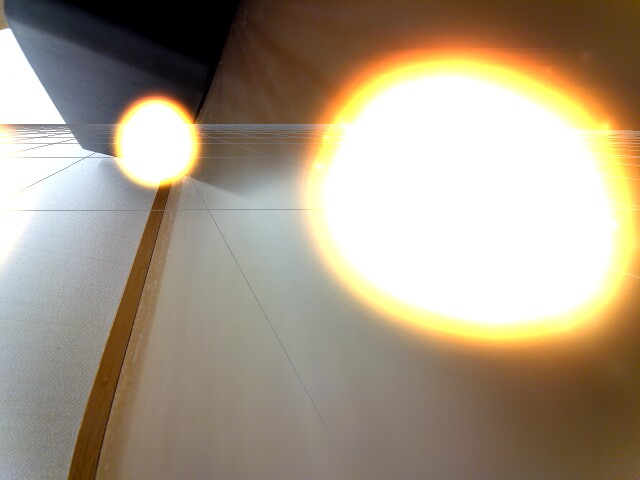firebig: (299, 43, 639, 356)
